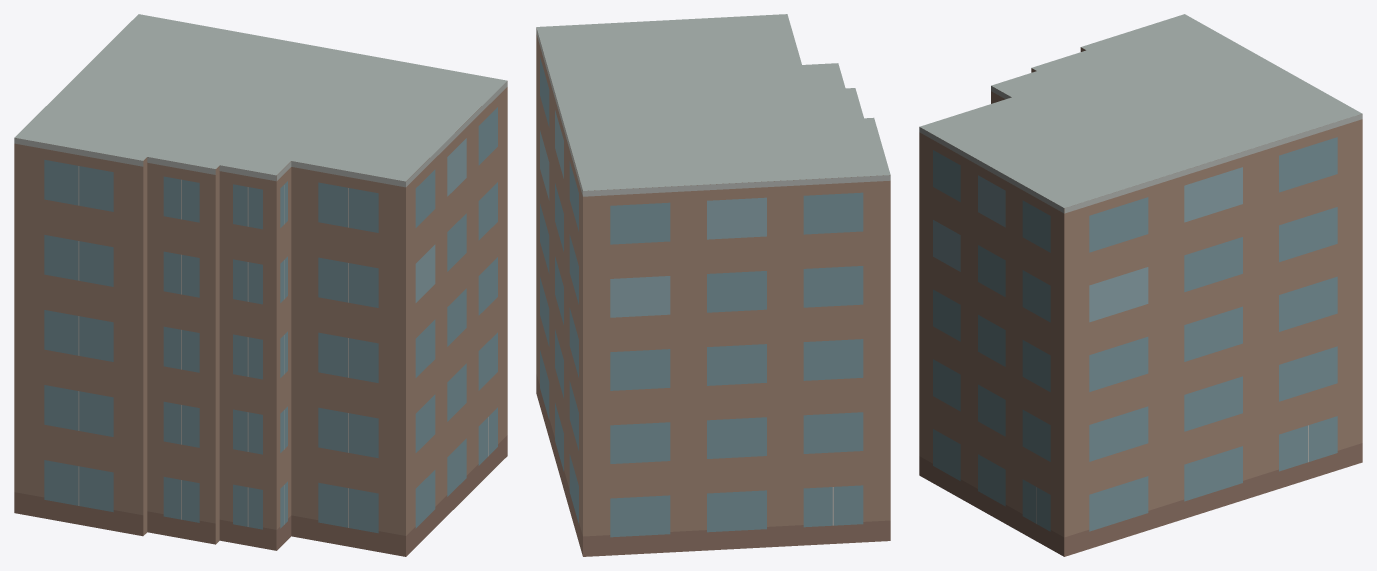
The model's file is survey-upis-32776163.glb.
The picture shows the model from 3 angles, left to right: view 1: azimuth 30°, elevation 25°; view 2: azimuth 150°, elevation 25°; view 3: azimuth 270°, elevation 25°; orthographic projection. The views are drawn at different scales.
Parts seen in each view (by area): view 1: survey-upis-32776163.tmp; view 2: survey-upis-32776163.tmp; view 3: survey-upis-32776163.tmp.
Part boxes in pixels (left/top/right/bottom): survey-upis-32776163.tmp: left=14, top=14, right=507, bottom=556; survey-upis-32776163.tmp: left=536, top=14, right=890, bottom=556; survey-upis-32776163.tmp: left=919, top=14, right=1362, bottom=556.
Size of the model in its own units: 18.64 by 15.6 by 17.98.
